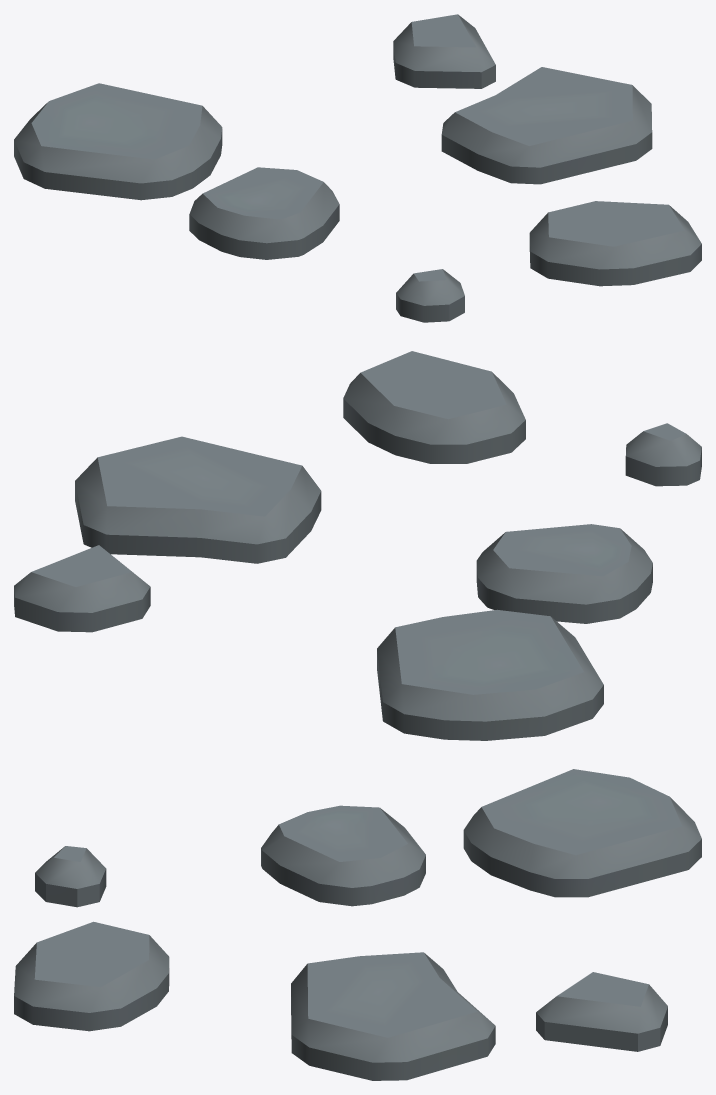
File: path_d.glb
3 views of the same model, one above another, from view 1: azimuth 30°, elevation 25°; view 2: azimuth 150°, elevation 25°; view 3: azimuth 270°, elevation 25° (orthographic). The views are drawn at different scales.
Parts seen in each view (by area): view 1: path_D; view 2: path_D; view 3: path_D.
Boxes of the visible parts, x1,y1,x2,y2 form: path_D: (14, 14, 701, 322); path_D: (14, 351, 701, 740); path_D: (14, 769, 701, 1080).
Size of the model in its own units: 1.66 by 0.1 by 1.71.
Materials: 1 (1 with a texture image).
